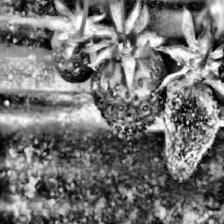Gray Mold: (154, 9, 224, 181)
